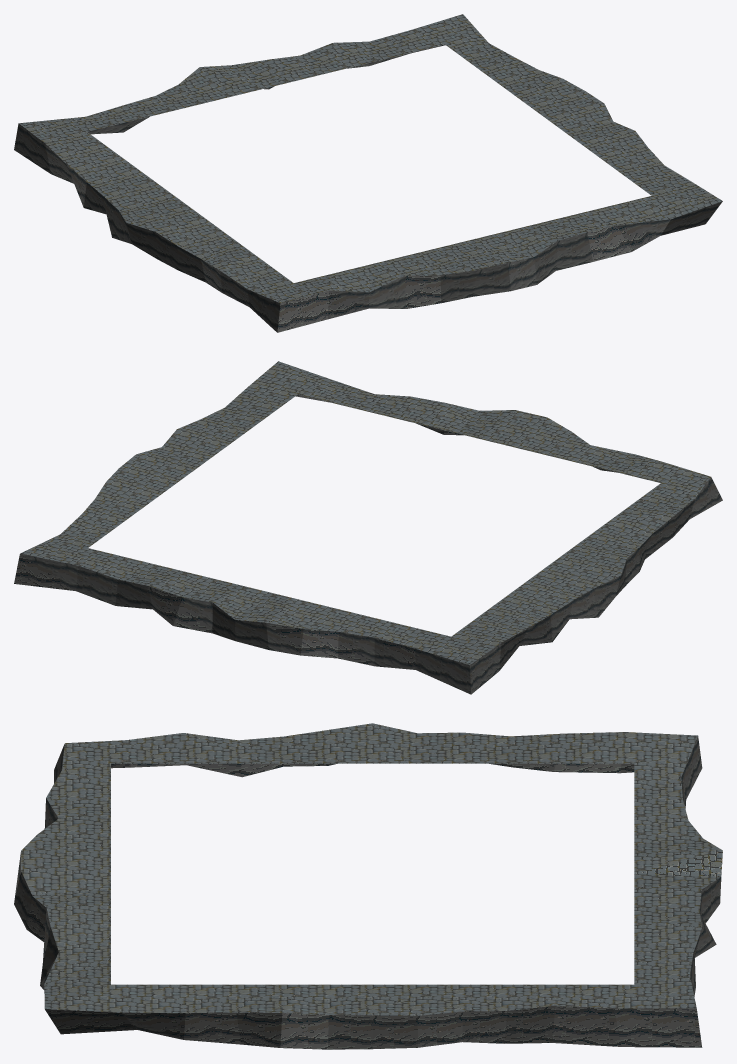
File: entorno.glb
3 views of the same model, one above another, from view 1: azimuth 30°, elevation 25°; view 2: azimuth 150°, elevation 25°; view 3: azimuth 270°, elevation 25° (orthographic). The views are drawn at different scales.
Parts seen in each view (by area): view 1: pedreira_entorno; view 2: pedreira_entorno; view 3: pedreira_entorno.
Boxes of the visible parts, left/top/right/bottom form: pedreira_entorno: left=14, top=14, right=722, bottom=332; pedreira_entorno: left=14, top=361, right=722, bottom=694; pedreira_entorno: left=14, top=723, right=722, bottom=1049.
Size of the model in its own units: 16.31 by 1.06 by 16.52.
Materials: 2 (2 with a texture image).
